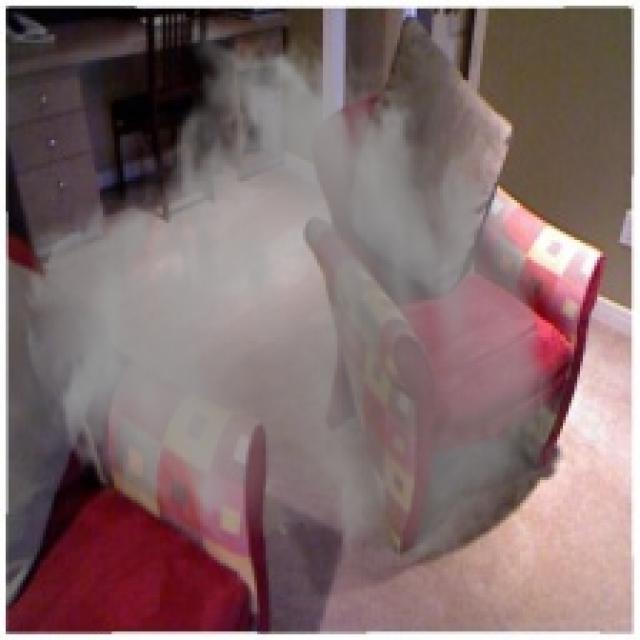smoke: (20, 14, 566, 572)
